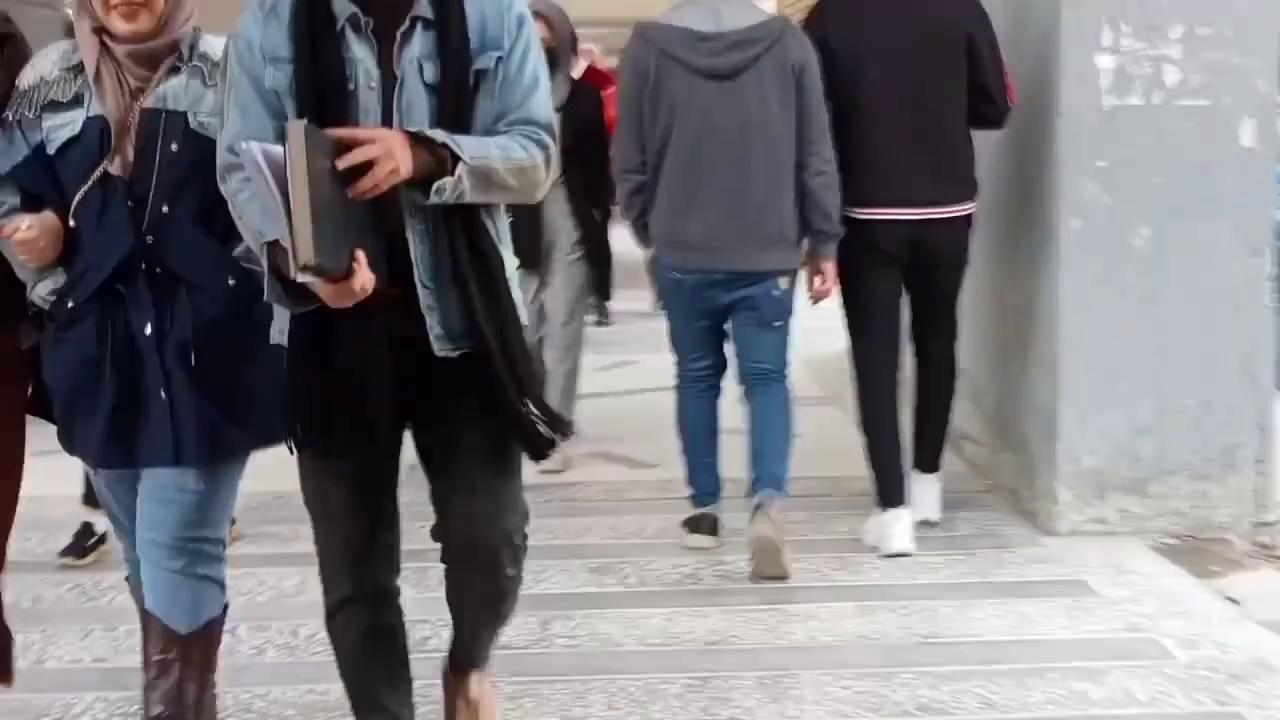person: (214, 0, 574, 718), (0, 0, 292, 719), (607, 0, 844, 581), (798, 0, 1015, 557), (0, 2, 112, 568), (507, 0, 608, 444), (564, 35, 618, 326)
